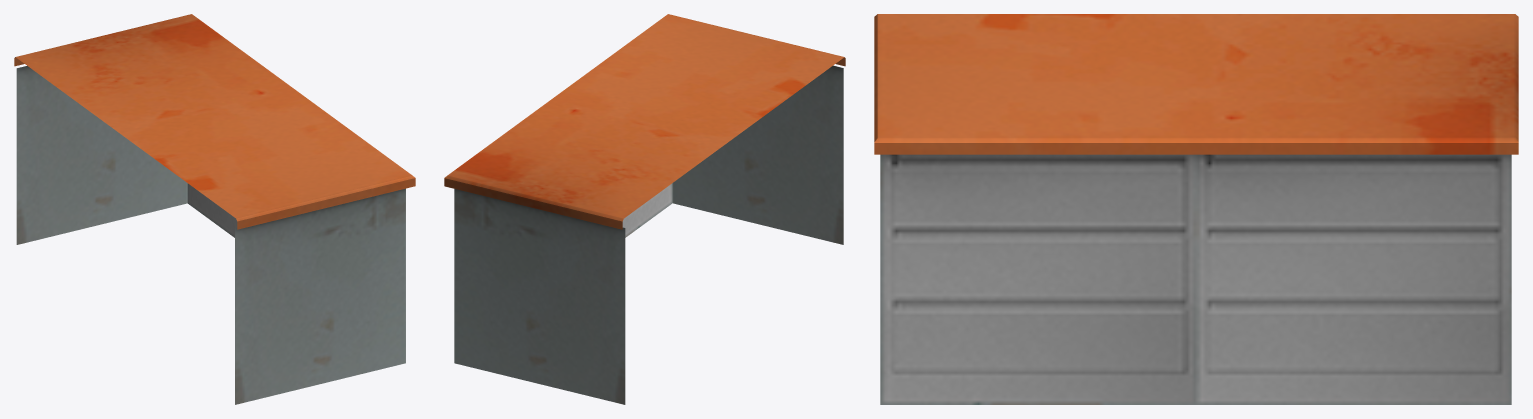
File: Desk_2.fbx
3 views of the same model, side by side, from view 1: azimuth 30°, elevation 25°; view 2: azimuth 150°, elevation 25°; view 3: azimuth 270°, elevation 25° (orthographic). The views are drawn at different scales.
Visible parts, largest first — view 1: Desk_2; view 2: Desk_2; view 3: Desk_2.
Part boxes in pixels (box(x1,y1,x2,y2)): Desk_2: box(14, 14, 415, 404); Desk_2: box(444, 14, 845, 404); Desk_2: box(874, 14, 1518, 404).
Bounding box in the file's own units: 60.78 × 60.91 × 132.
